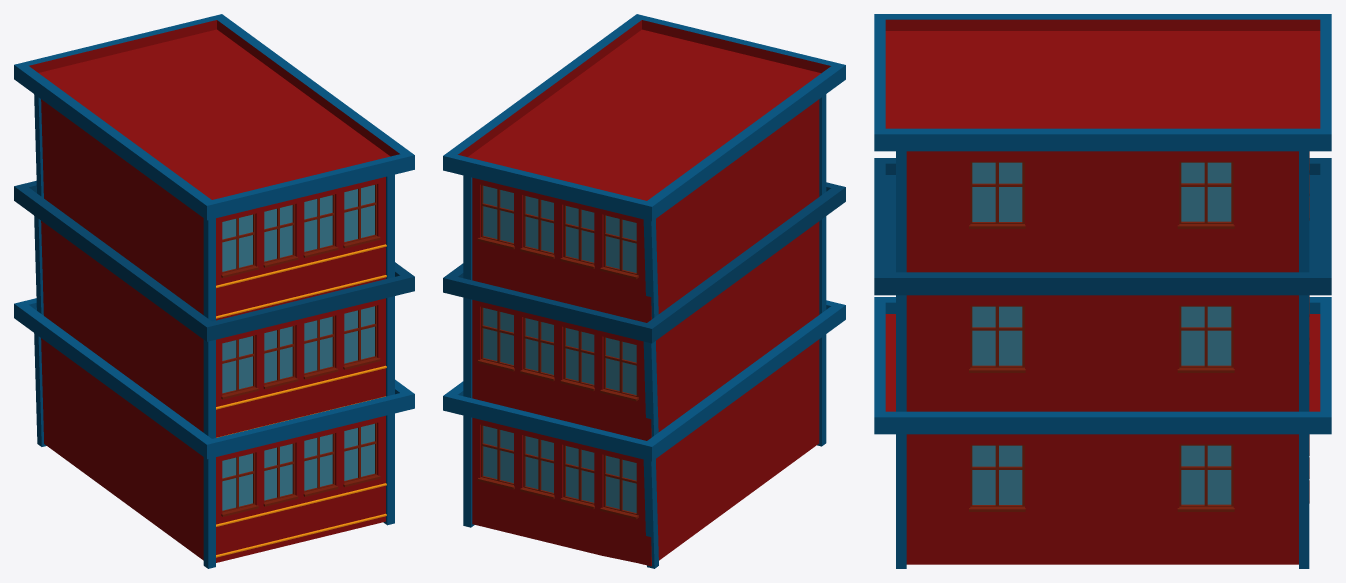
The model's file is bina1.FBX.
The picture shows the model from 3 angles, left to right: view 1: azimuth 30°, elevation 25°; view 2: azimuth 150°, elevation 25°; view 3: azimuth 270°, elevation 25°; orthographic projection. The views are drawn at different scales.
Parts seen in each view (by area): view 1: Cube.026, Cube.024, Cube.025; view 2: Cube.026, Cube.024, Cube.025; view 3: Cube.026, Cube.024, Cube.025.
Part boxes in pixels (x1,y1,x2,y2): Cube.026: (14,14,414,321); Cube.024: (14,298,414,568); Cube.025: (14,180,414,438); Cube.026: (443,14,845,322); Cube.024: (443,300,845,568); Cube.025: (443,182,845,440); Cube.026: (874,14,1331,272); Cube.024: (874,297,1331,568); Cube.025: (874,158,1331,411).
Size of the model in its own units: 492 by 841 by 790.
